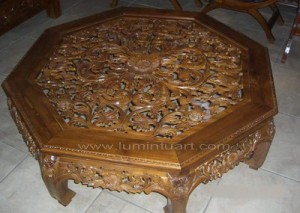Carving Table: (20, 19, 266, 188)
